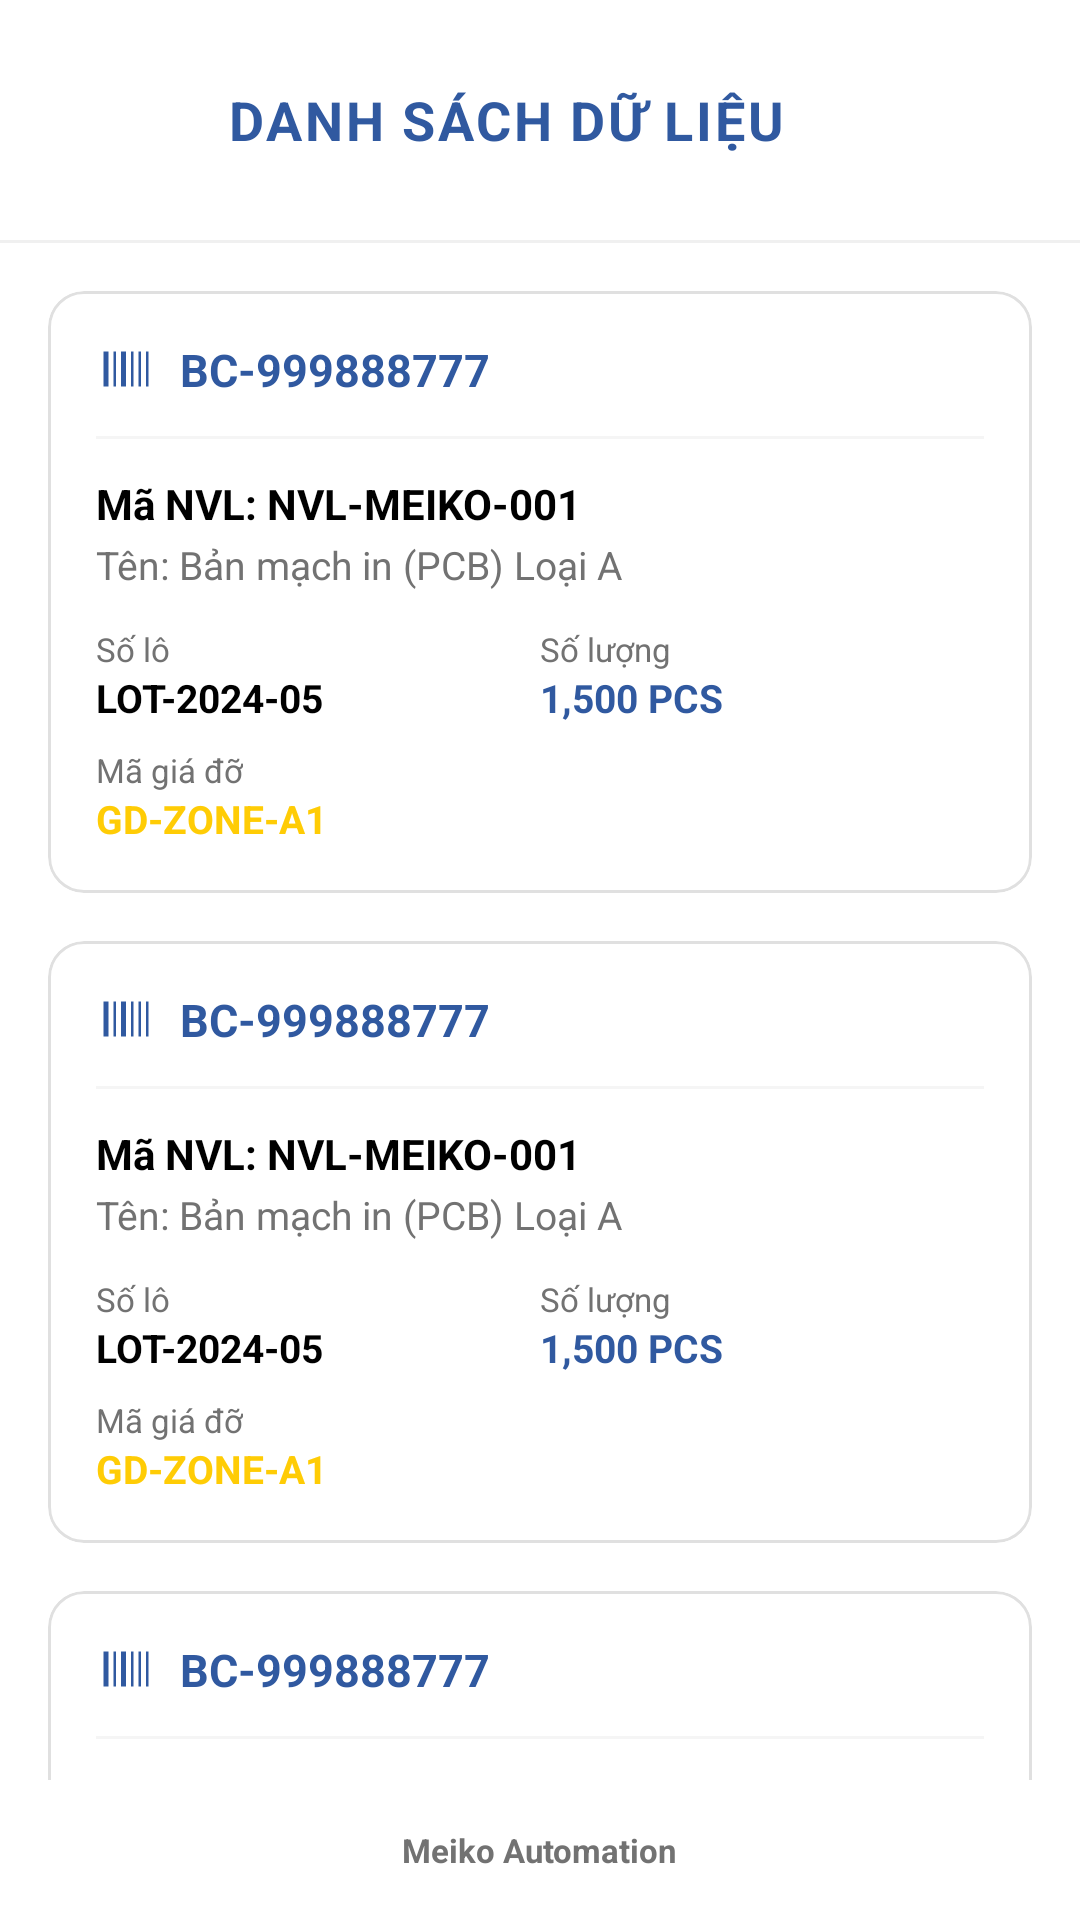

Named icons in this screenshot (1080*1920) and their centers, point (x, y):
Barcode: point (126, 369), point (126, 1019), point (126, 1669)
